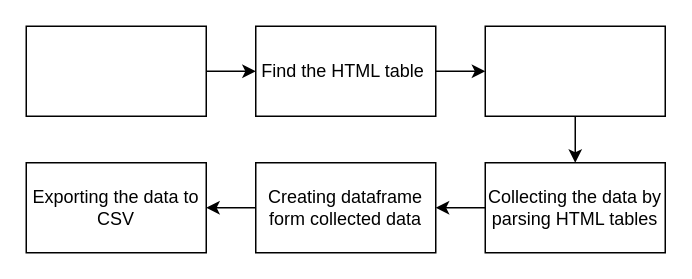
Some shapes in this 692 by 279 pixel diagram are drawn without their labels. The centre of each missing label's shape, as x and y in pixels:
"Extracting column names in HTML table" belongs at point (574, 70).
"Requesting Falcon 9 launch data from Wikipedia" belongs at point (115, 70).
